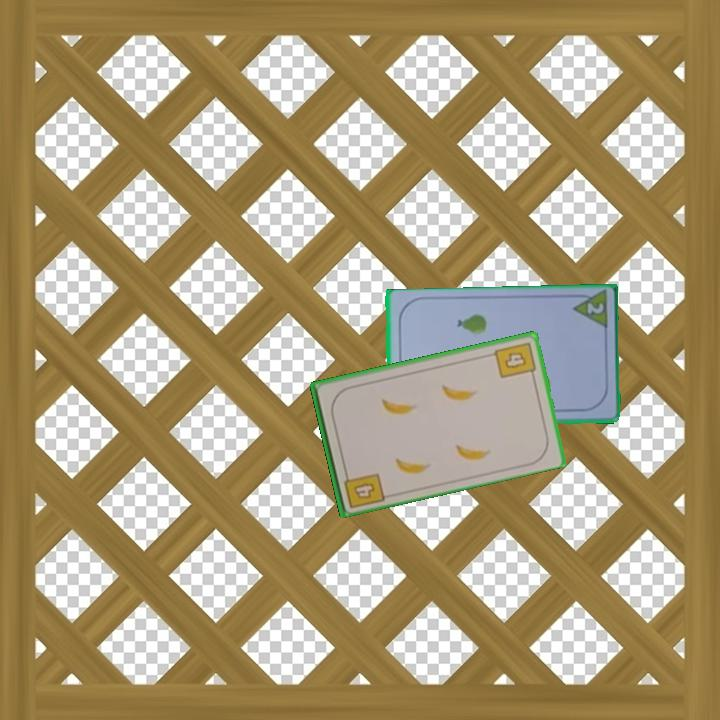2p: (568, 288, 610, 333)
4b: (340, 466, 387, 511), (491, 338, 538, 381)
